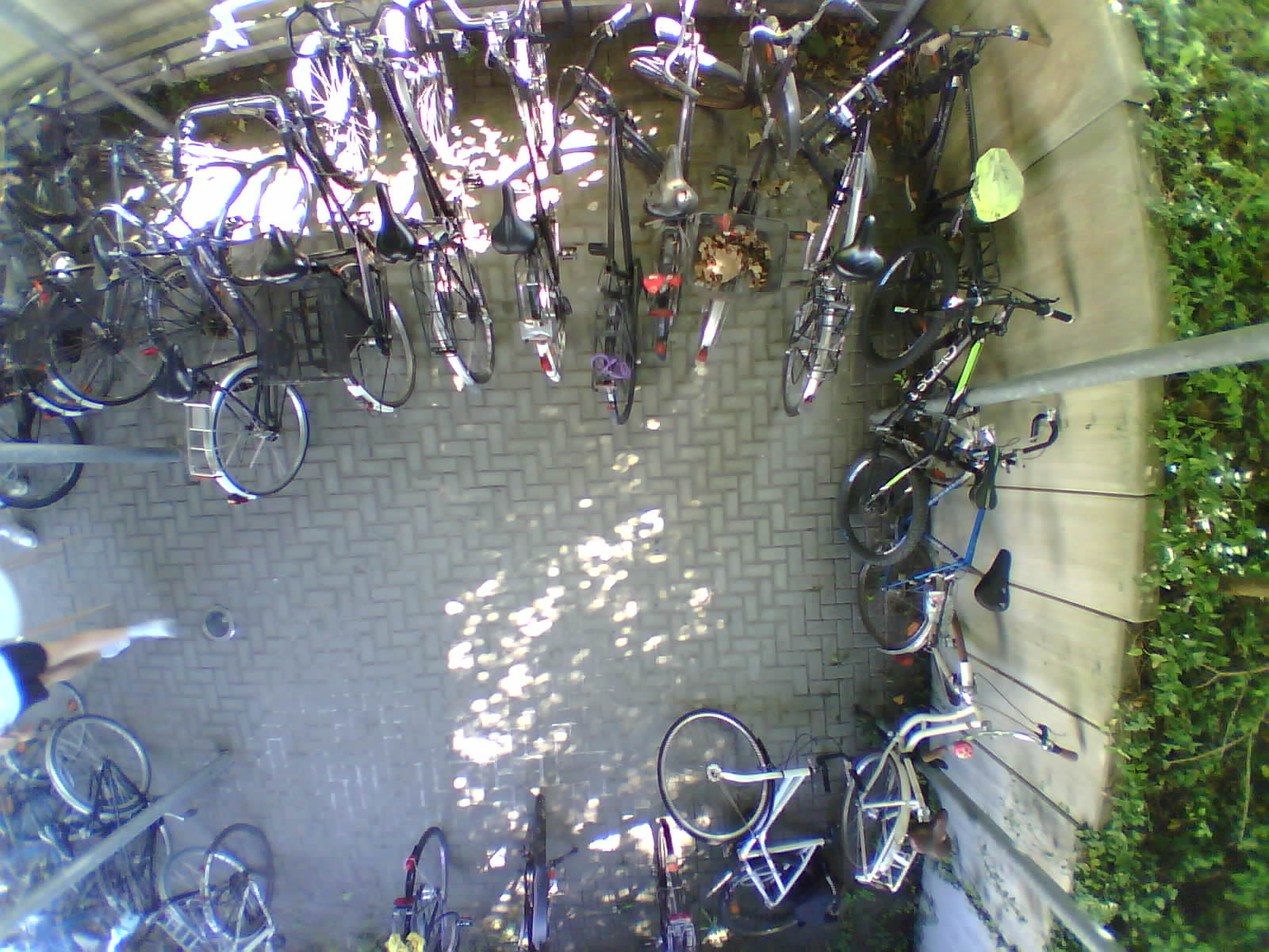bicylce: (264, 21, 407, 425), (32, 717, 274, 952), (364, 15, 497, 390), (28, 113, 189, 408), (892, 18, 1035, 346), (840, 549, 973, 898), (660, 710, 847, 939), (838, 229, 965, 564), (195, 152, 311, 508), (489, 6, 577, 395), (782, 64, 872, 422), (695, 28, 776, 392), (579, 51, 656, 427), (637, 11, 705, 373)
saddle: (356, 184, 418, 262), (643, 146, 699, 223), (484, 184, 540, 255), (969, 149, 1025, 220), (253, 219, 313, 283), (836, 208, 890, 279), (81, 225, 129, 296), (146, 344, 200, 403), (971, 545, 1014, 613), (960, 448, 999, 517), (909, 808, 956, 862), (32, 815, 79, 864)
